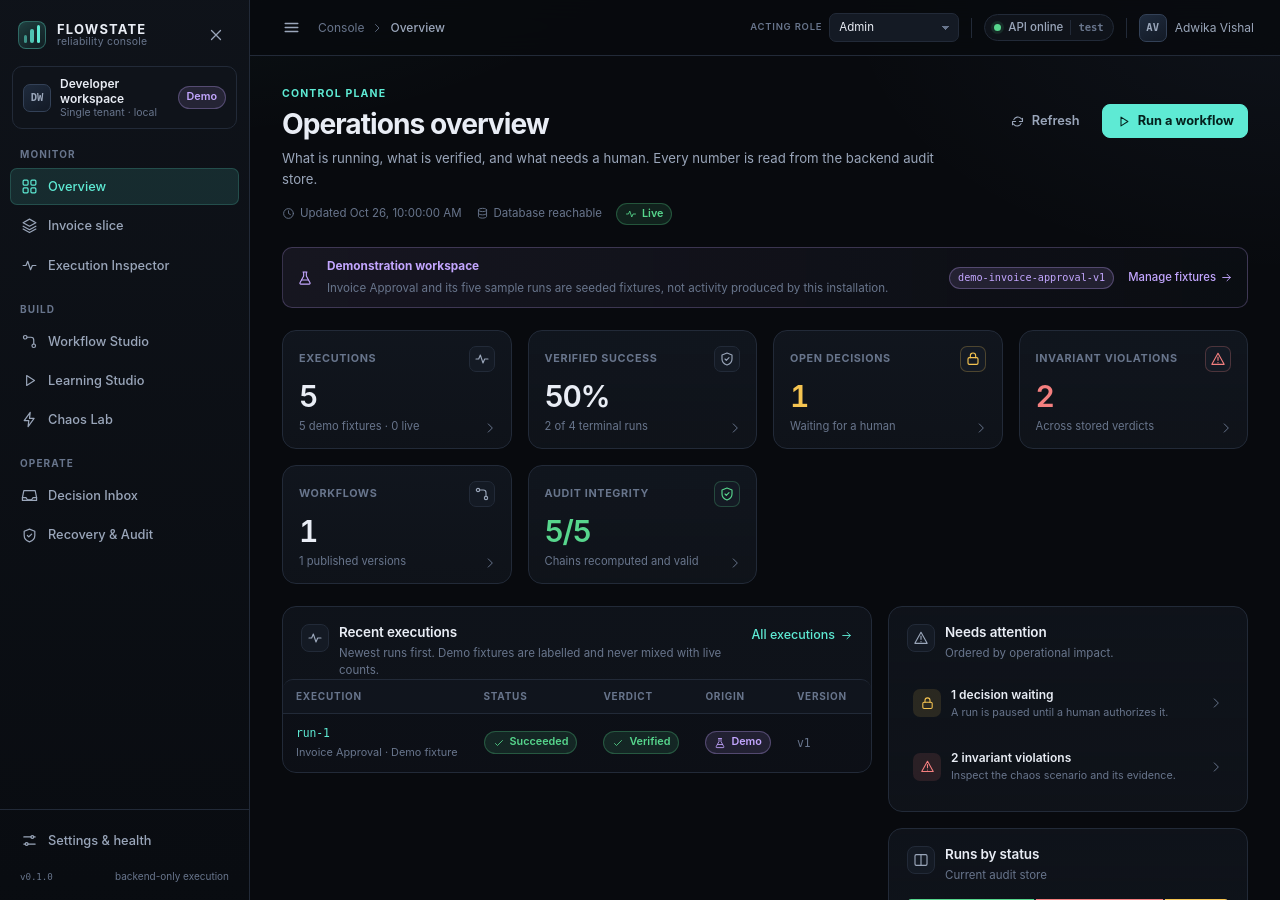
console navigation › navigates to Workflow Studio and opens a workflow version history
Check: the heading "Operations overview" is shown, box [282,107,549,141]
Click the link "Workflow Studio": (85,341) [21,333,149,350]
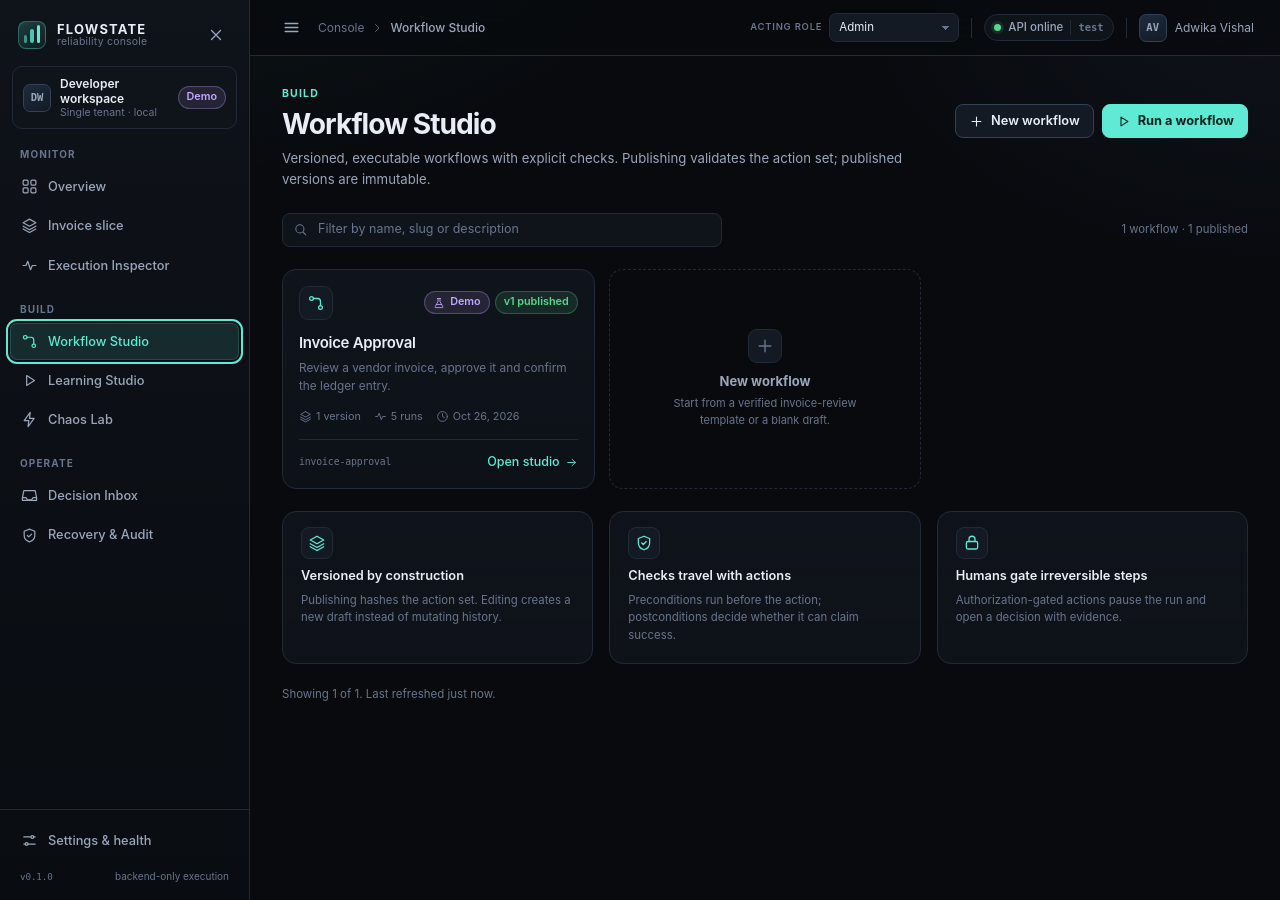
Check: the heading "Workflow Studio" is shown, box [282,107,496,141]
Check: the text "invoice-approval" is shown, box [299,455,391,469]
Click the link with aria-label "Open Invoice Approval": (316,303) [282,268,595,488]
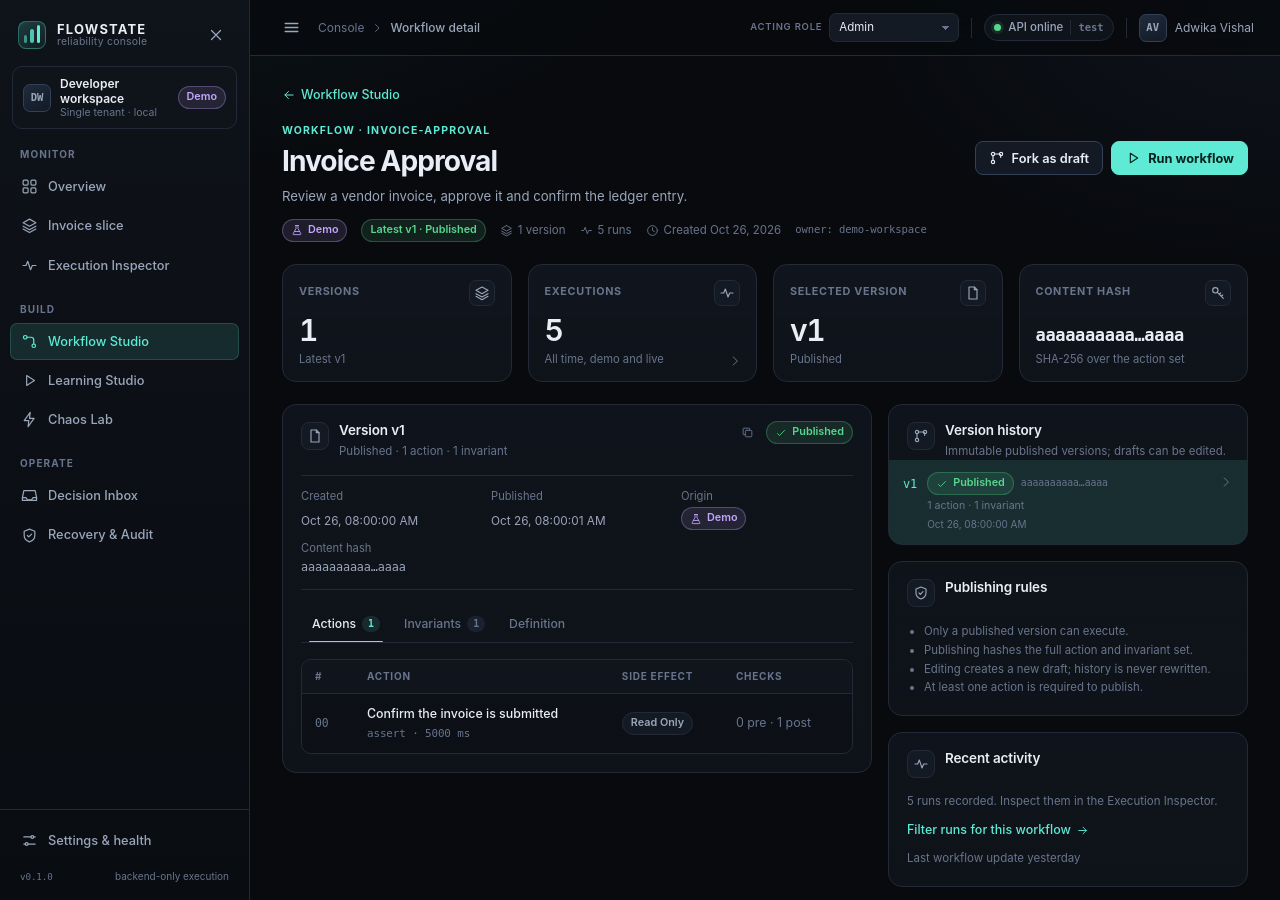
Check: the heading "Invoice Approval" is shown, box [282,144,497,178]
Check: the heading "Version history" is shown, box [945,422,1042,438]
Check: the text "Confirm the invoice is submitted" is shown, box [367,706,558,721]
Click the tab "Invariants 1": (445,624) [393,606,496,642]
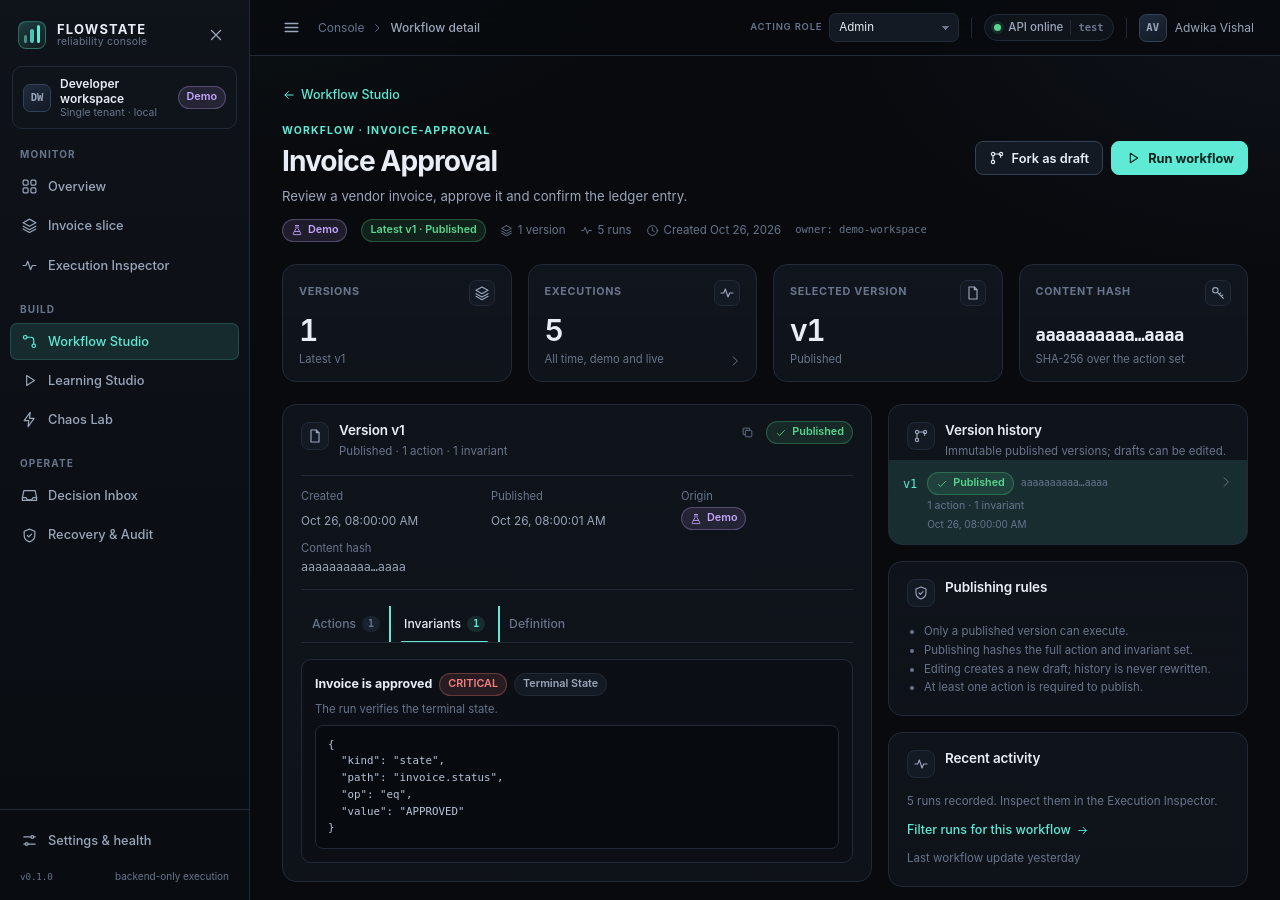
Check: the text "Invoice is approved" is shown, box [315,675,432,694]
